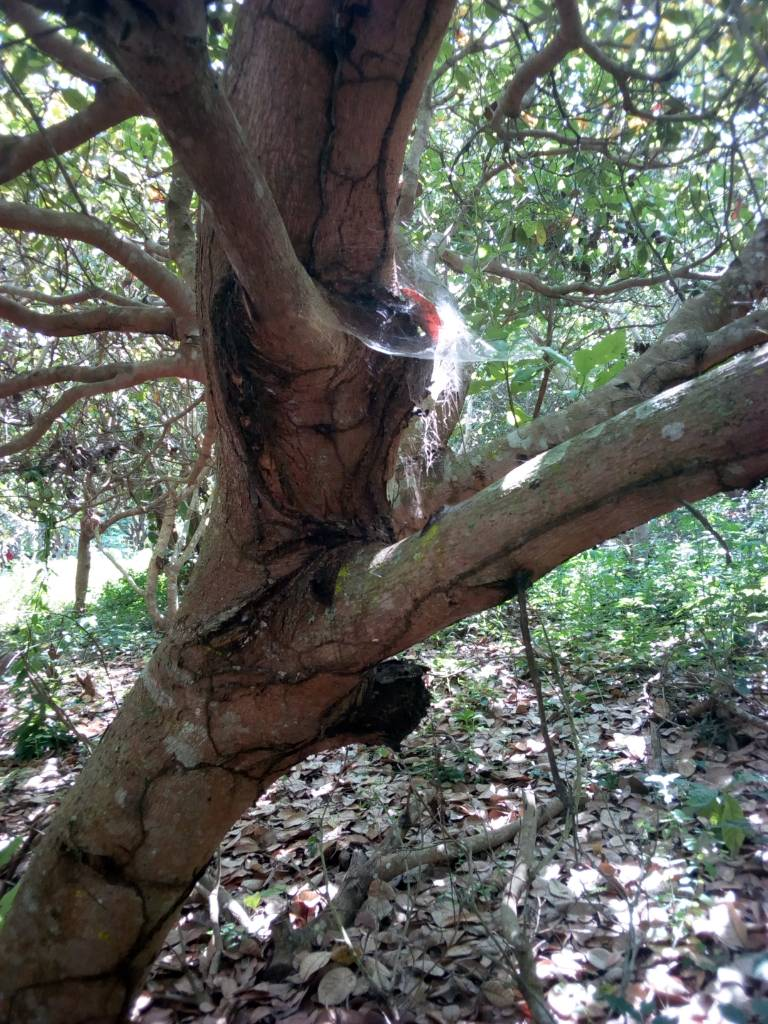Termites: (311, 5, 418, 283)
